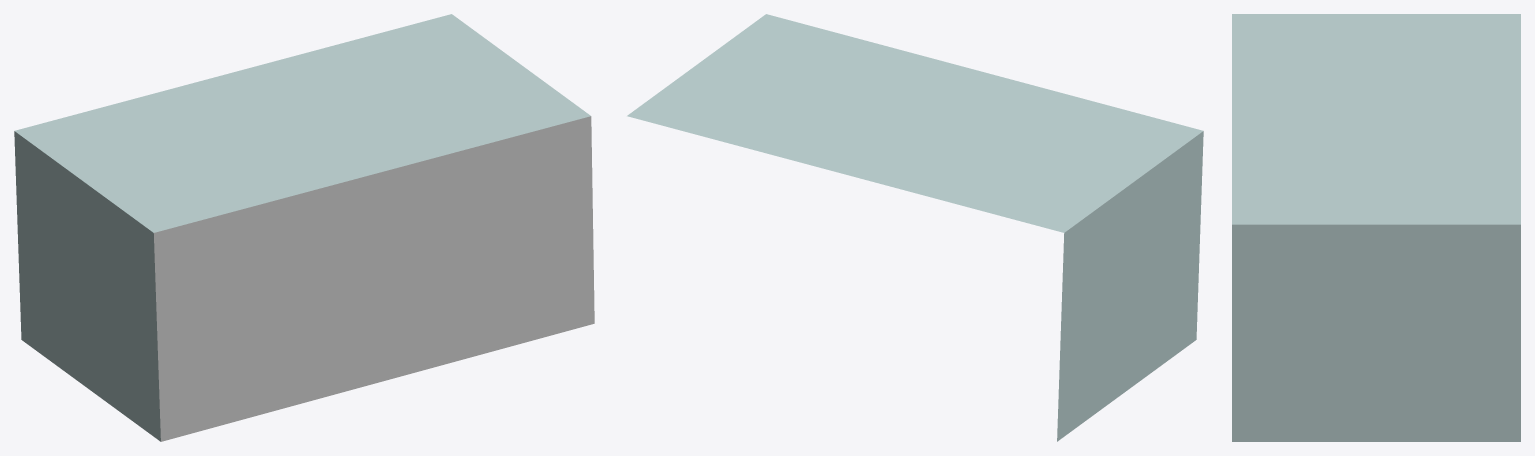
3 views of the same model, side by side, from view 1: azimuth 30°, elevation 25°; view 2: azimuth 150°, elevation 25°; view 3: azimuth 270°, elevation 25° (orthographic). The views are drawn at different scales.
Visible parts, largest first — view 1: 0_3_2_1_2_0_3_3_3; view 2: 0_3_2_1_2_0_3_3_3; view 3: 0_3_2_1_2_0_3_3_3.
Part boxes in pixels (left/top/right/bottom): 0_3_2_1_2_0_3_3_3: left=14, top=14, right=594, bottom=441; 0_3_2_1_2_0_3_3_3: left=627, top=14, right=1203, bottom=441; 0_3_2_1_2_0_3_3_3: left=1232, top=14, right=1520, bottom=441.
Bounding box in the file's own units: 5.47 × 2.62 × 3.
